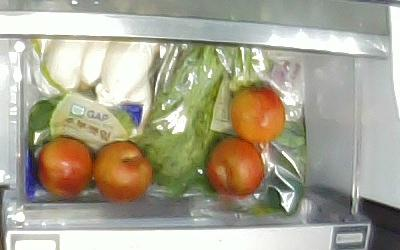prune: (94, 139, 153, 206), (37, 137, 94, 200), (207, 137, 263, 200), (229, 88, 286, 146)
